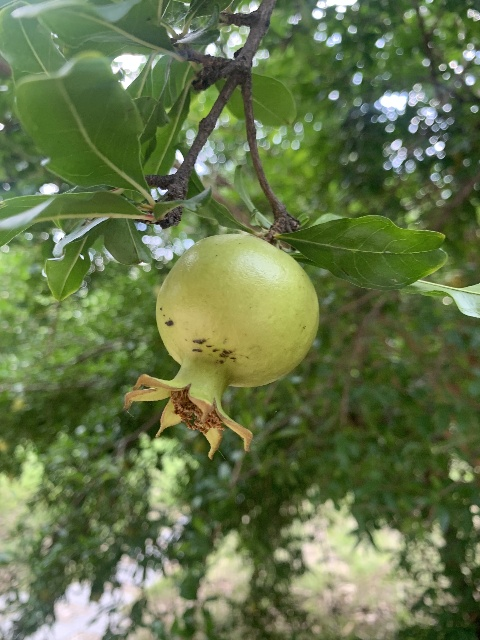mid-growth: (122, 233, 318, 463)
